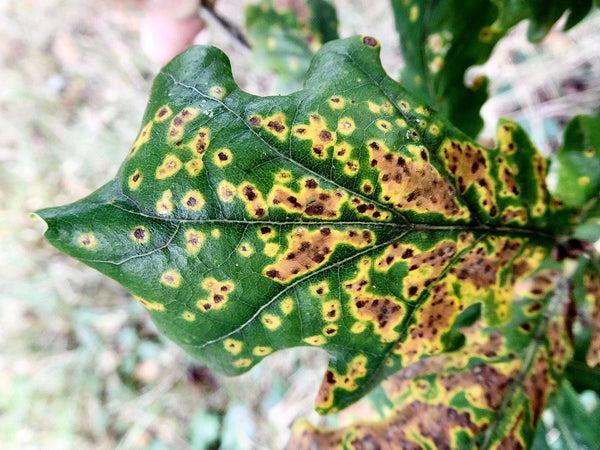black-spot: (150, 94, 266, 334)
